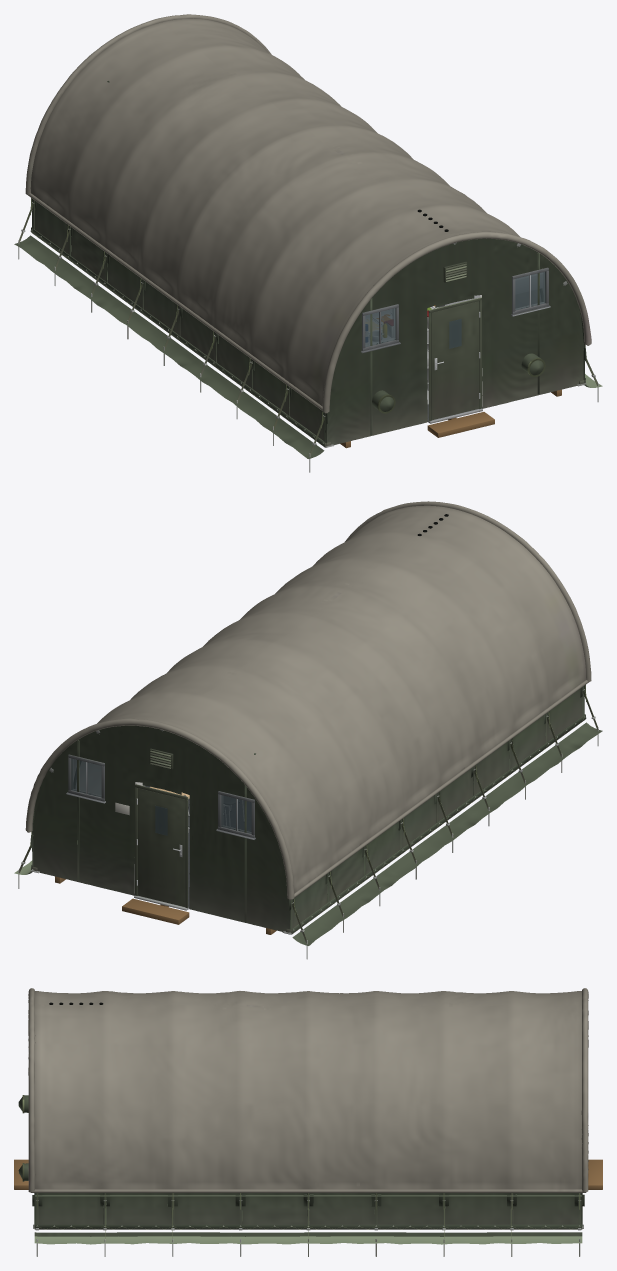
Rendered from series-4-deployed-fitted.glb.
3 renders of one model, top to bottom at view 1: azimuth 30°, elevation 25°; view 2: azimuth 150°, elevation 25°; view 3: azimuth 270°, elevation 25°, orthographic. The views are drawn at different scales.
Visible parts, largest first — view 1: SERIES4_thermal_cap, SERIES4_shelter, SERIES4_fitout, SERIES4_floor; view 2: SERIES4_thermal_cap, SERIES4_shelter, SERIES4_floor, SERIES4_fitout; view 3: SERIES4_thermal_cap, SERIES4_shelter, SERIES4_floor.
Boxes of the visible parts, left/top/right/bottom form: SERIES4_thermal_cap: left=25, top=14, right=591, bottom=428; SERIES4_shelter: left=14, top=81, right=602, bottom=472; SERIES4_fitout: left=366, top=273, right=542, bottom=418; SERIES4_floor: left=340, top=389, right=561, bottom=448; SERIES4_thermal_cap: left=25, top=501, right=591, bottom=915; SERIES4_shelter: left=14, top=685, right=602, bottom=959; SERIES4_floor: left=55, top=876, right=276, bottom=934; SERIES4_fitout: left=145, top=785, right=250, bottom=905; SERIES4_thermal_cap: left=28, top=988, right=588, bottom=1209; SERIES4_shelter: left=18, top=1095, right=584, bottom=1256; SERIES4_floor: left=14, top=1159, right=602, bottom=1189.
Bounding box in the file's own units: 5.7 × 3.76 × 10.59.
48 materials, 17 textured.
